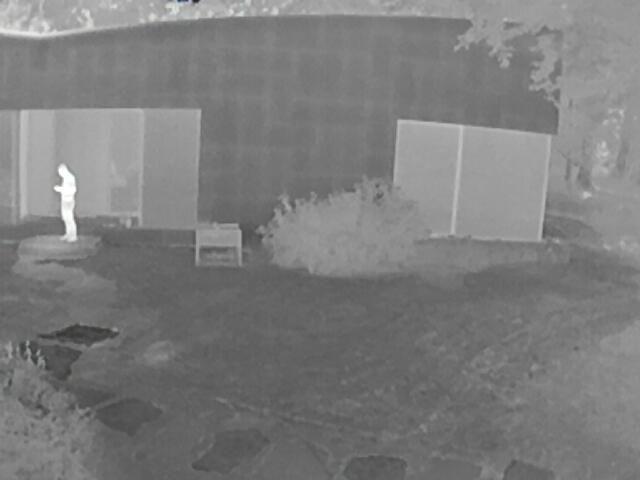person: (50, 164, 80, 243)
